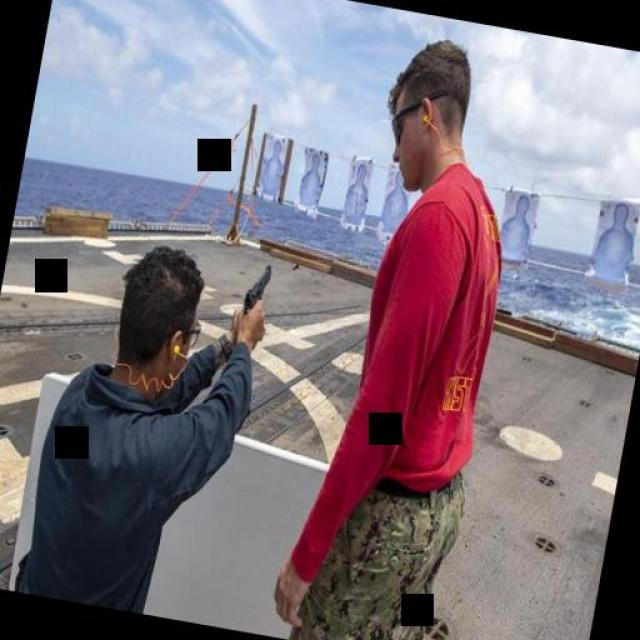gun: (240, 258, 272, 316)
